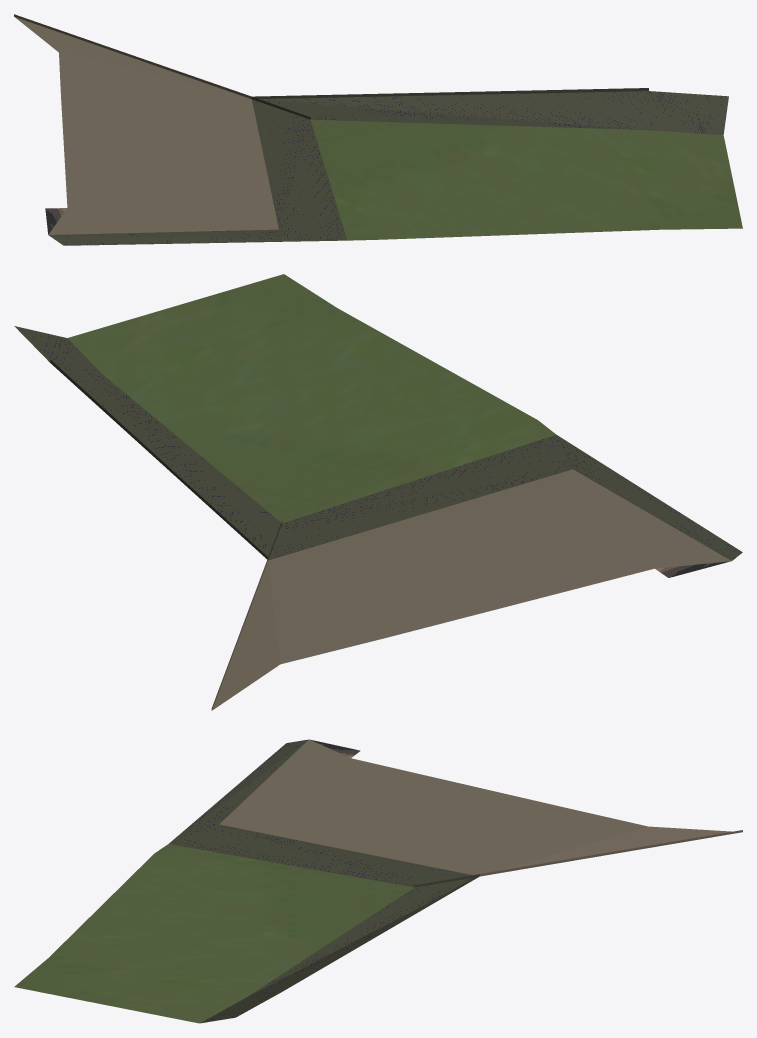
File: lodset12_law2.obj
3 renders of one model, top to bottom at view 1: azimuth 30°, elevation 25°; view 2: azimuth 150°, elevation 25°; view 3: azimuth 270°, elevation 25°, orthographic. The views are drawn at different scales.
Parts seen in each view (by area): view 1: LODset12_LAw2; view 2: LODset12_LAw2; view 3: LODset12_LAw2.
Part boxes in pixels (x1,y1,x2,y2): LODset12_LAw2: [14, 14, 742, 245]; LODset12_LAw2: [14, 274, 742, 710]; LODset12_LAw2: [14, 739, 742, 1023].
Size of the model in its own units: 66.85 by 2.21 by 71.3.
Materials: 4 (4 with a texture image).
